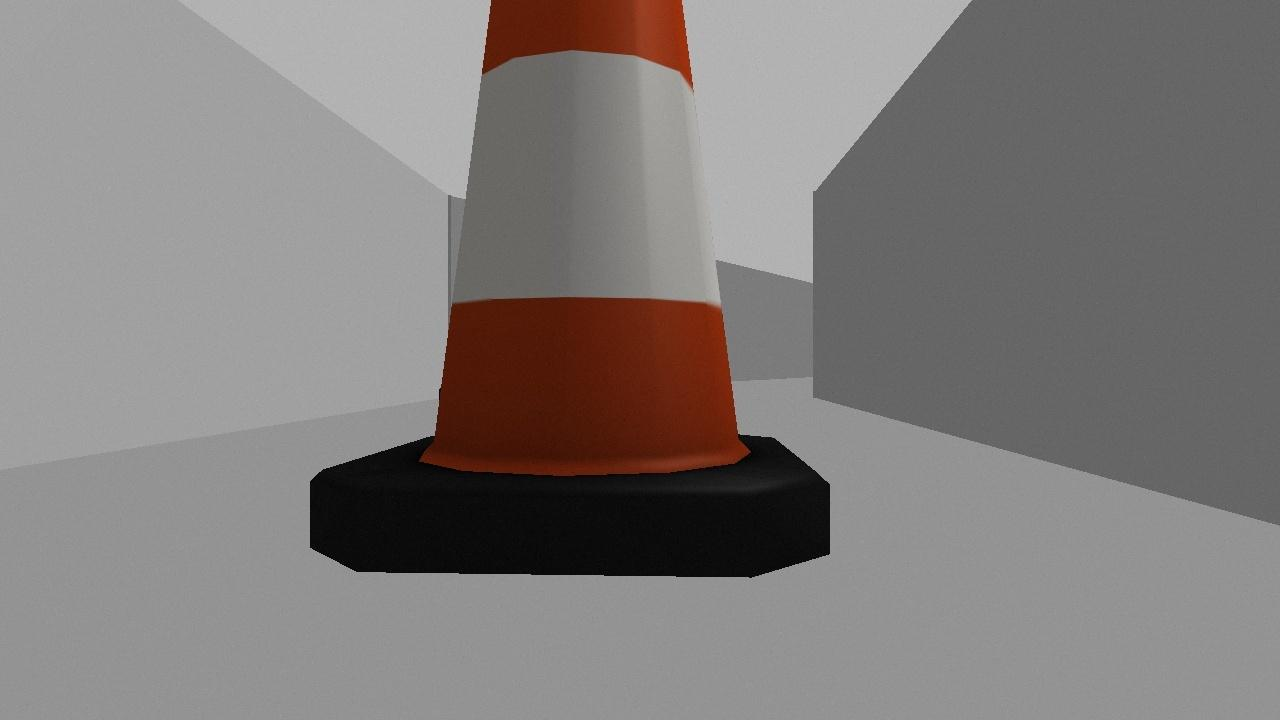cone_barrel: (275, 0, 861, 594)
